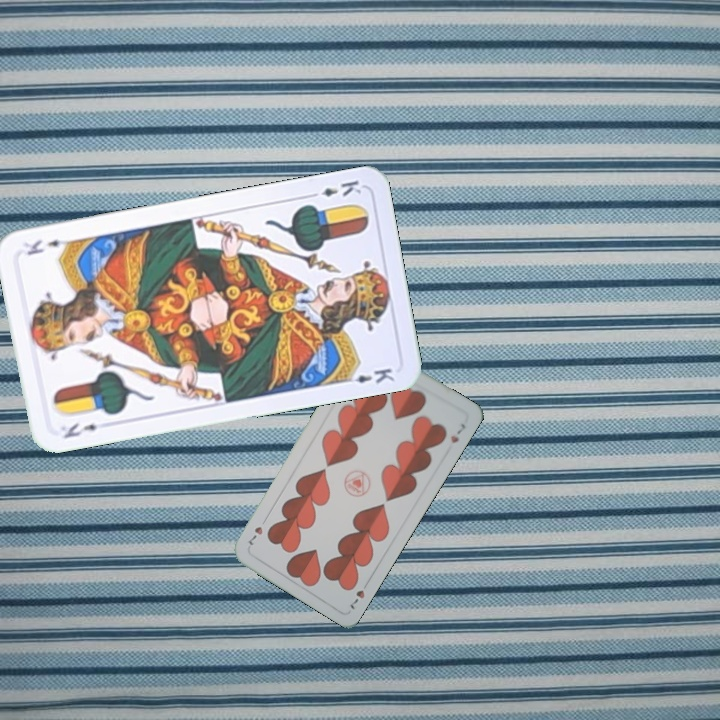EK: (304, 176, 364, 201), (59, 419, 100, 441)
H7: (346, 586, 367, 612)
